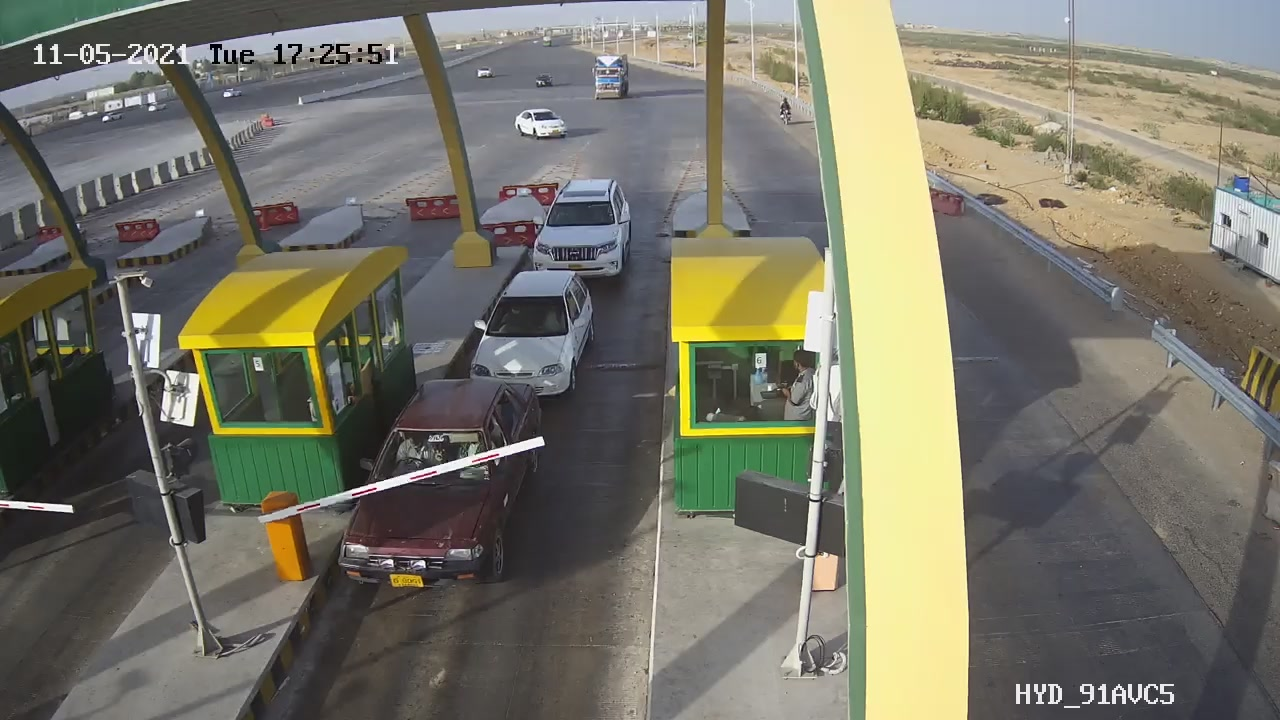F1: (327, 364, 556, 605), (447, 253, 612, 409), (512, 166, 653, 296)
